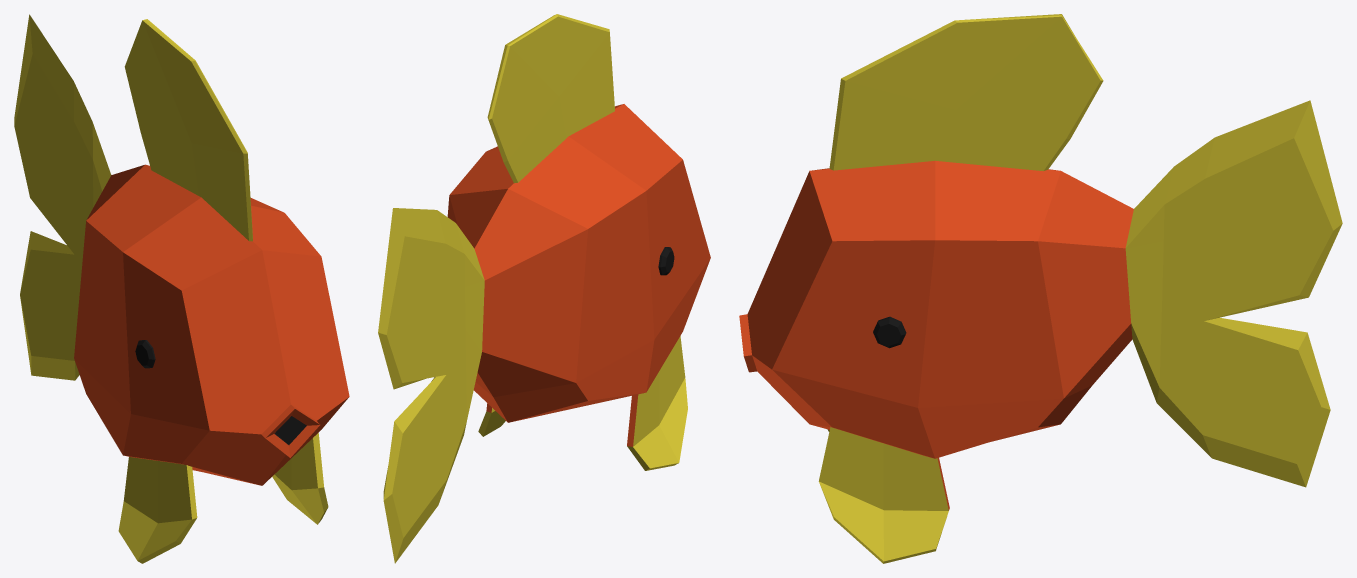
File: Goldfish_01.fbx
3 renders of one model, left to right at view 1: azimuth 30°, elevation 25°; view 2: azimuth 150°, elevation 25°; view 3: azimuth 270°, elevation 25°, orthographic. The views are drawn at different scales.
Visible parts, largest first — view 1: Goldfish_01; view 2: Goldfish_01; view 3: Goldfish_01.
Boxes of the visible parts, box(x1,y1,x2,y2) form: Goldfish_01: box(14, 14, 349, 563); Goldfish_01: box(378, 14, 710, 563); Goldfish_01: box(739, 14, 1342, 563).
Bounding box in the file's own units: 1.71 × 4.13 × 4.5.
